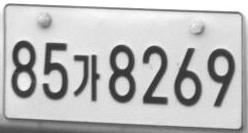2: (142, 44, 168, 105)
5: (41, 41, 69, 100)
6: (173, 47, 203, 107)
8: (107, 43, 136, 103), (10, 40, 37, 99)
9: (206, 47, 236, 107)
가: (72, 54, 100, 102)
